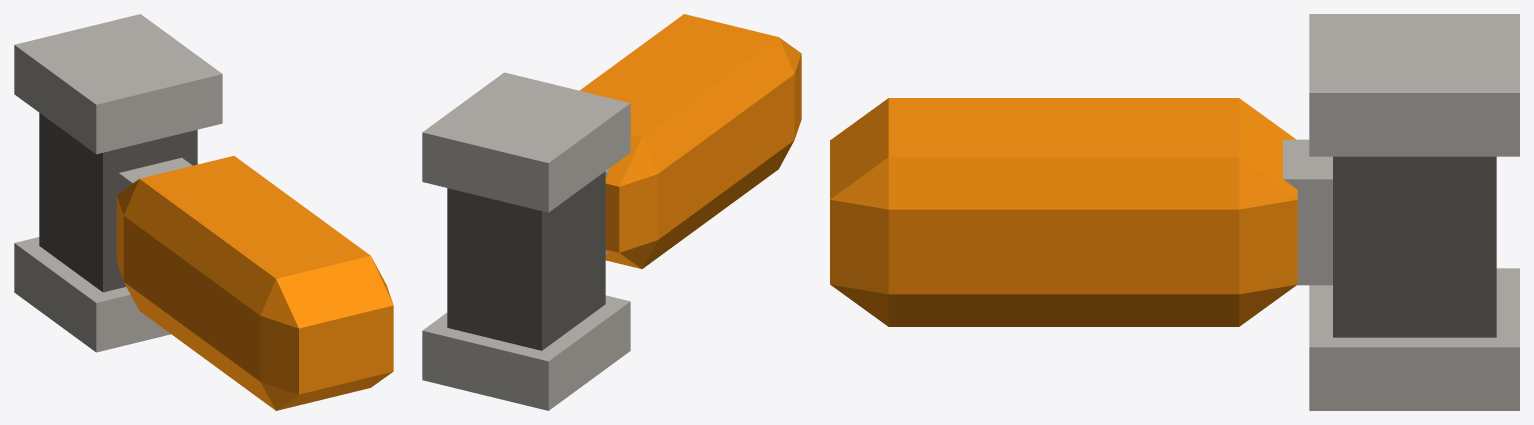
Rendered from OrangeArm.gltf.
The picture shows the model from 3 angles, left to right: view 1: azimuth 30°, elevation 25°; view 2: azimuth 150°, elevation 25°; view 3: azimuth 270°, elevation 25°; orthographic projection. The views are drawn at different scales.
Parts seen in each view (by area): view 1: beveled_cuboid, cuboid (×4); view 2: cuboid (×3), beveled_cuboid; view 3: beveled_cuboid, cuboid (×4).
Part boxes in pixels (x1,y1,x2,y2): beveled_cuboid: [116, 156, 393, 410]; cuboid (×4): [14, 14, 222, 352]; cuboid (×3): [422, 72, 630, 410]; beveled_cuboid: [580, 14, 801, 268]; beveled_cuboid: [830, 98, 1297, 326]; cuboid (×4): [1283, 14, 1519, 410].
Size of the model in its own units: 0.25 by 0.4688 by 0.9219.
1 material, 1 textured.
